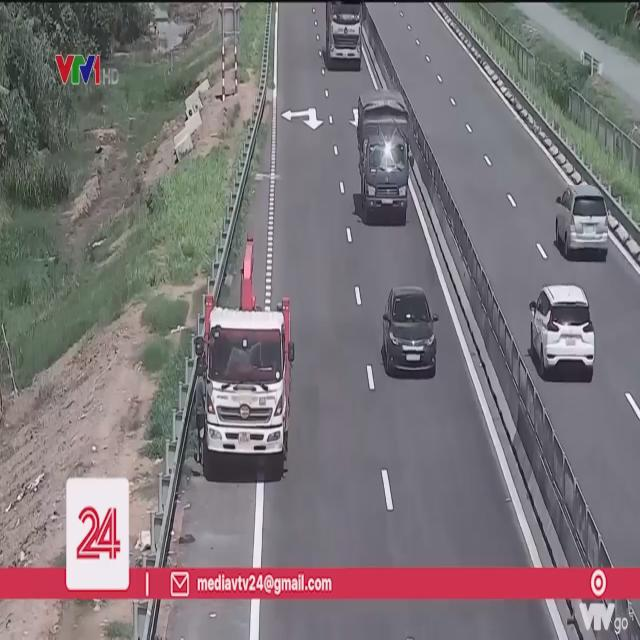car: (531, 284, 597, 379), (380, 290, 438, 379), (554, 183, 613, 264)
truck: (198, 289, 296, 474), (356, 87, 411, 227), (326, 2, 364, 70)
